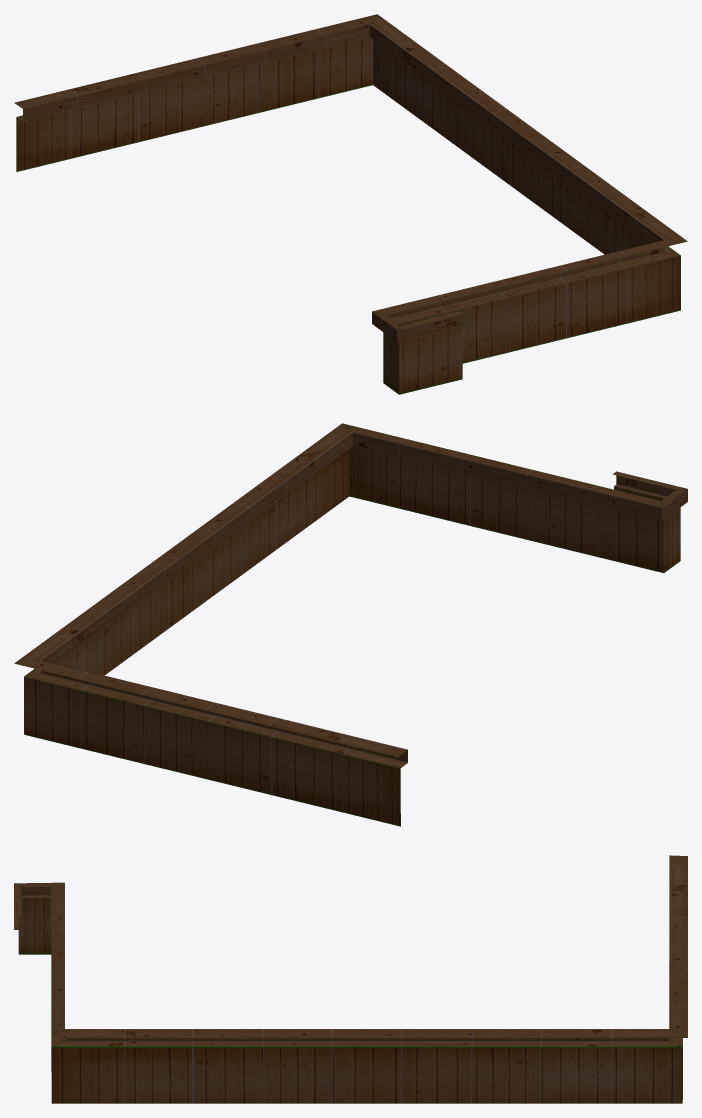
Rendered from woodenWall.FBX.
3 renders of one model, top to bottom at view 1: azimuth 30°, elevation 25°; view 2: azimuth 150°, elevation 25°; view 3: azimuth 270°, elevation 25°, orthographic. The views are drawn at different scales.
Visible parts, largest first — view 1: Box003; view 2: Box003; view 3: Box003.
Boxes of the visible parts, <box> form: Box003: <box>14,14,687,394</box>; Box003: <box>14,423,687,826</box>; Box003: <box>14,855,687,1103</box>.
Bounding box in the file's own units: 259 × 46.36 × 406.
Materials: 1 (1 with a texture image).
